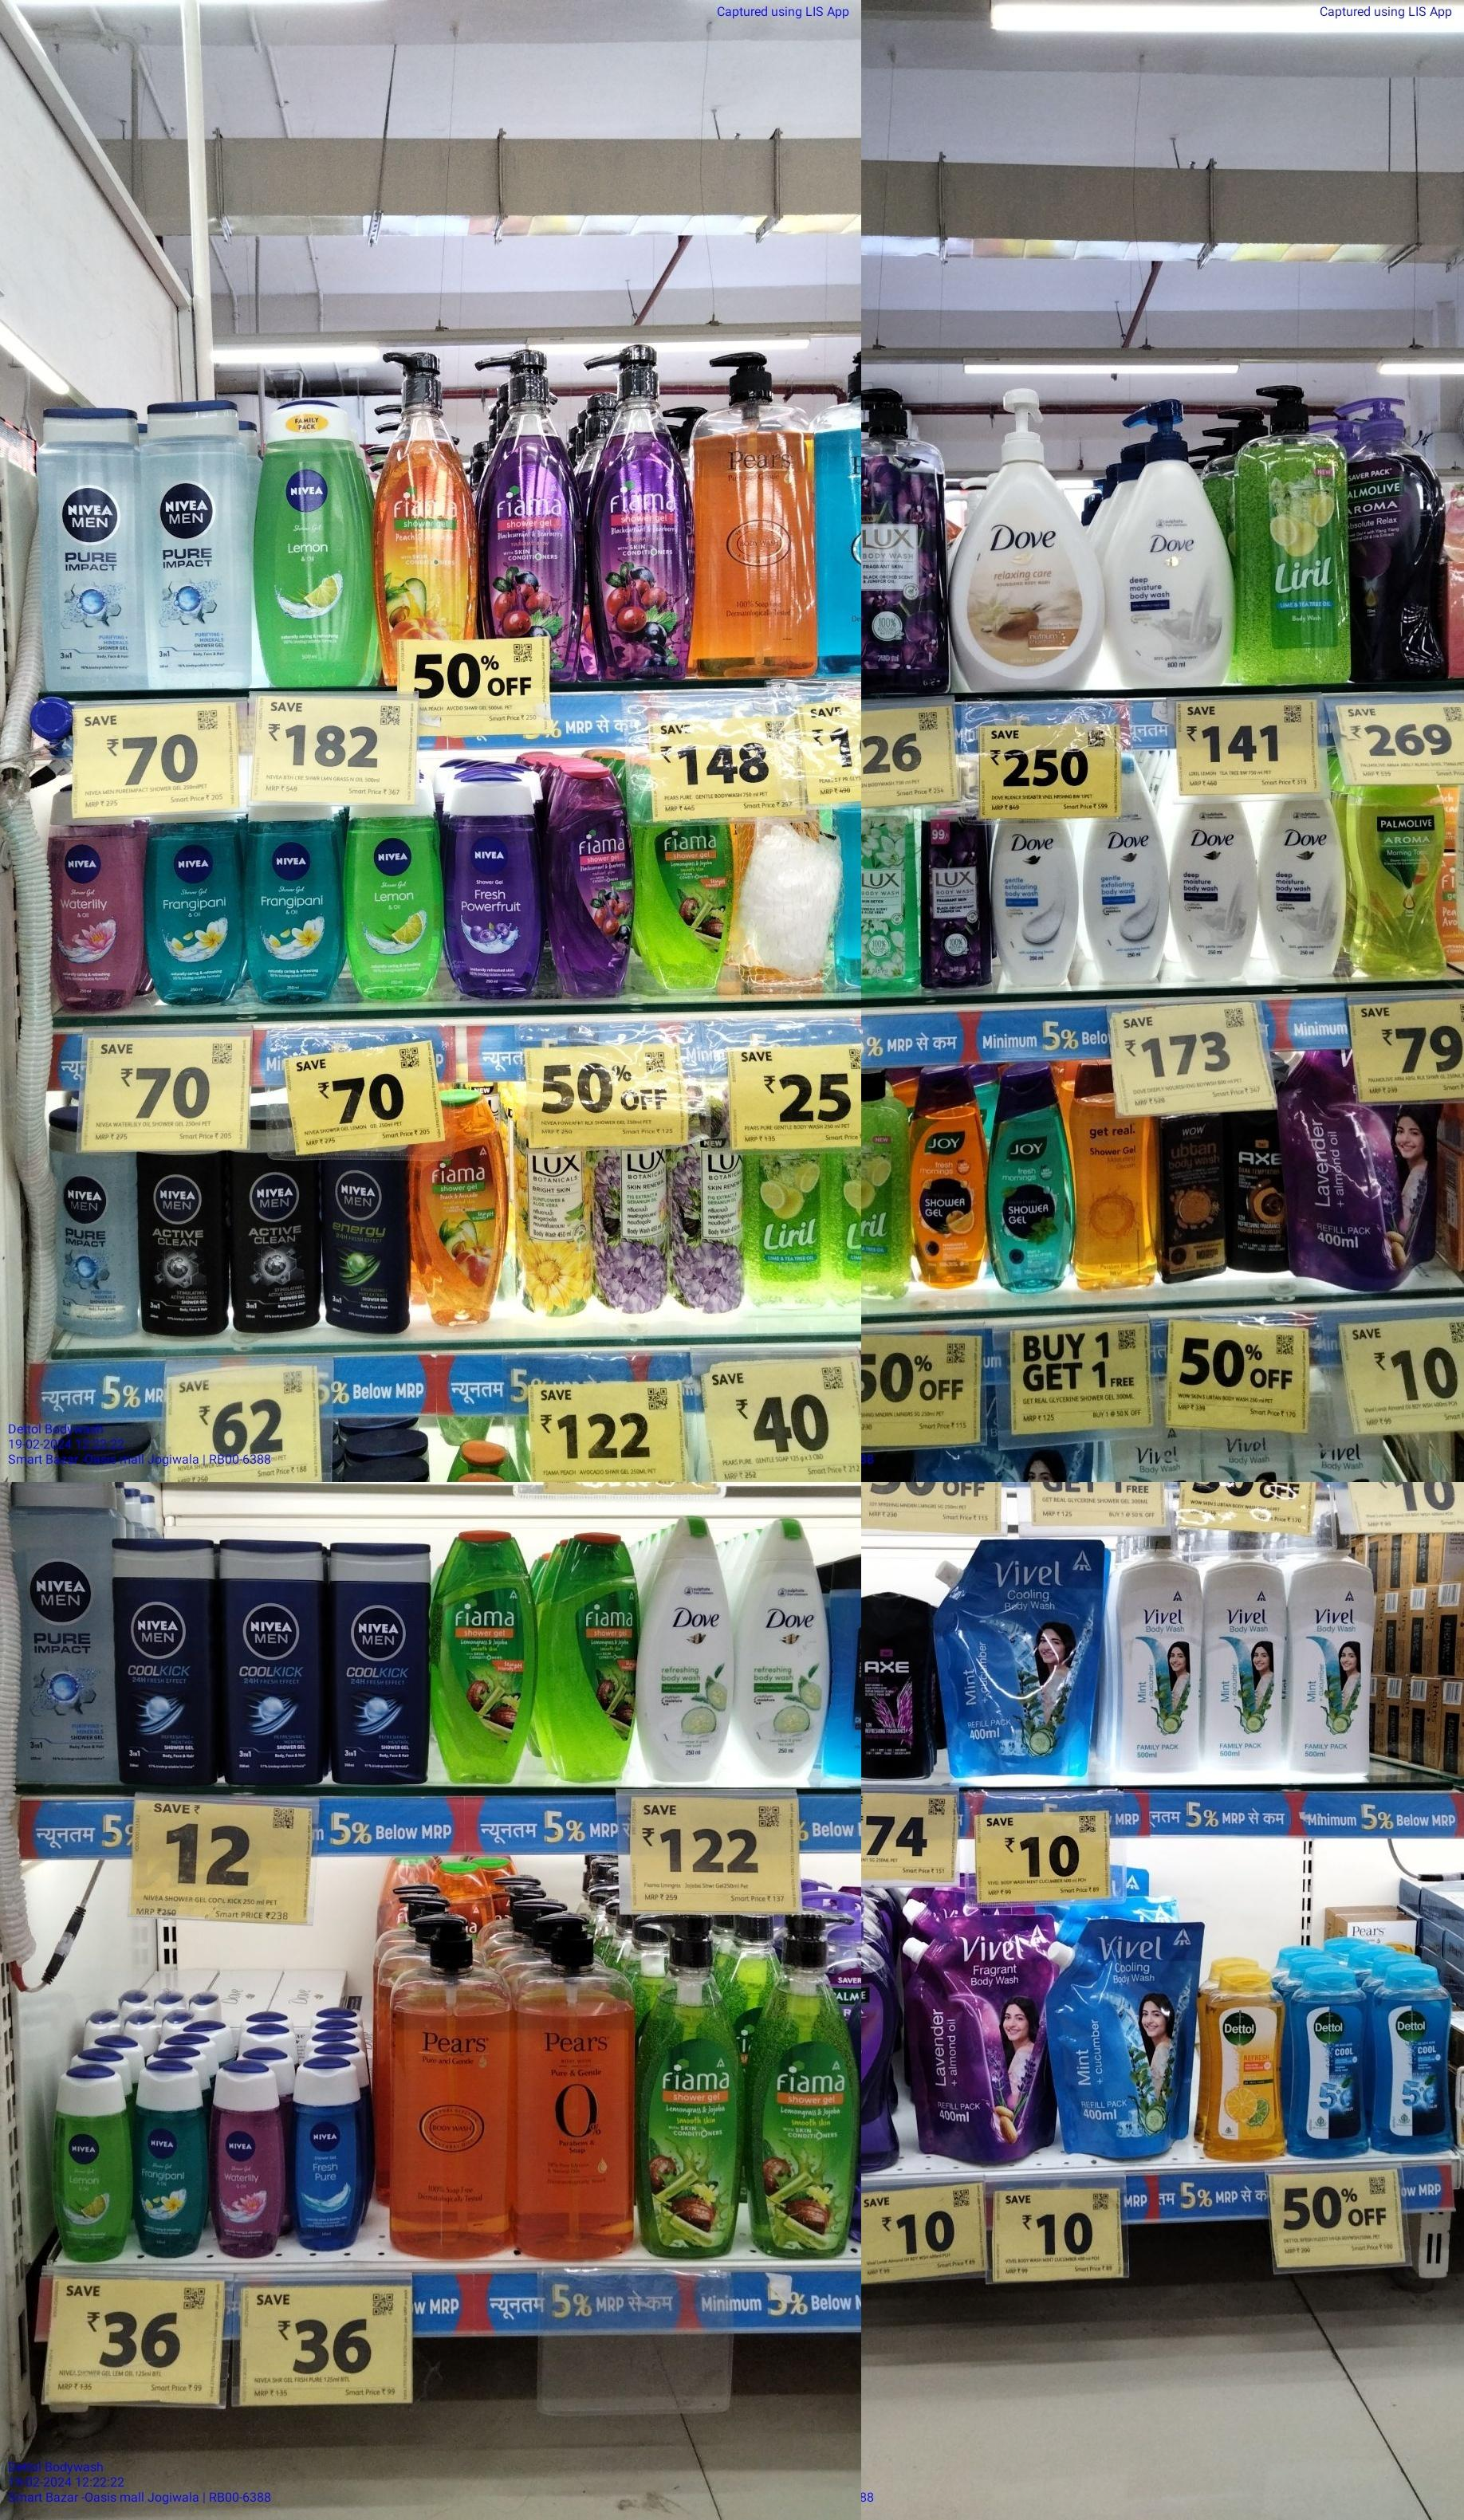Dettol_Bodywash_Cool: (1370, 1961, 1457, 2156), (1286, 1964, 1372, 2160)
Dettol_Bodywash_Refresh: (1203, 1966, 1288, 2163)
Dove_Deep_Moisture_Body_Wash_250ML: (1258, 799, 1347, 980), (1171, 801, 1258, 980)
Dove_Gentle_Exfoliating_Body_Wash_250ML: (1081, 819, 1171, 982), (988, 827, 1081, 987)
Dove_Refreshing_Body_Wash_250ML: (638, 1512, 735, 1783), (737, 1517, 830, 1778)
Fiama_Shower_Gel_Lemongrass_and_Jojoba_250ML: (430, 1527, 539, 1785), (542, 1531, 636, 1782)
Fiama_Shower_Gel_Peach_and_Avocado_250ML: (411, 1144, 507, 1322)
Joy_Shower_Gel_Mandarin_and_Lemongrass_250ML: (908, 1064, 988, 1292)
Joy_Shower_Gel_Mint_and_Eucalyptus_250ML: (986, 1064, 1075, 1294)
Lux_Black_Orchid_Scent_and_Juniper_Oil_Body_Wash_245ML: (918, 806, 988, 987)
Nivea_Shower_Gel_Frangipani_and_Oil_250ML: (143, 812, 246, 1008), (246, 806, 342, 1007), (132, 2058, 211, 2259)
Nivea_Shower_Gel_Fresh_Powerfruit_250ML: (441, 771, 544, 1001)
Nivea_Shower_Gel_Lemon_and_Oil_250ML: (253, 395, 373, 684), (343, 805, 441, 1003), (49, 2062, 131, 2262)
Nivea_Shower_Gel_Waterlily_and_Oil_250ML: (52, 815, 143, 1014), (209, 2060, 286, 2257)
Palmolive_Aroma_Morning_Tonic_Shower_Gel_250ML: (1347, 785, 1448, 979)
